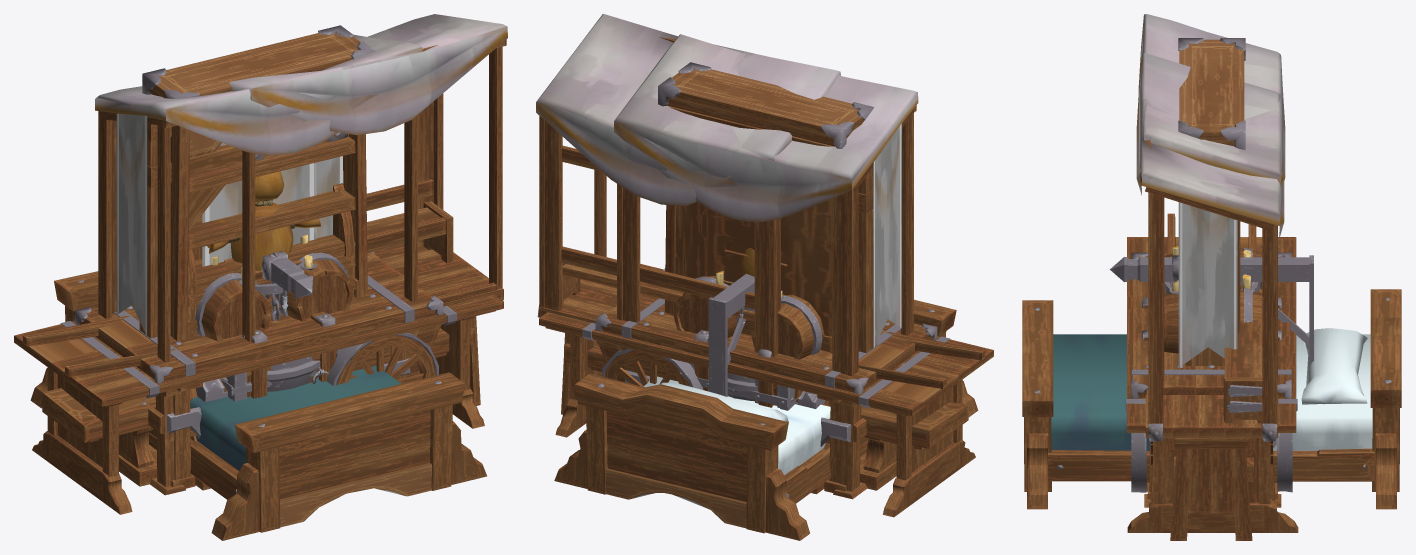
File: fantasy.glb
3 views of the same model, side by side, from view 1: azimuth 30°, elevation 25°; view 2: azimuth 150°, elevation 25°; view 3: azimuth 270°, elevation 25° (orthographic). The views are drawn at different scales.
Visible parts, largest first — view 1: Stall_Cart_Empty, Stall_Empty, Bed_Twin1, Bookcase_2, Table_Large, Bed_Twin2, Workbench, Barrel_Holder, Bench, Banner_2, Shelf_Arch, Banner_1_Cloth (+6 smaller); view 2: Stall_Empty, Stall_Cart_Empty, Bookcase_2, Bed_Twin1, Bed_Twin2, Table_Large, Workbench, Bench, Barrel_Holder, Lantern_Wall, Banner_2, Banner_1 (+3 smaller); view 3: Stall_Cart_Empty, Bed_Twin1, Stall_Empty, Bed_Twin2, Table_Large, Bookcase_2, Workbench, Lantern_Wall, Barrel_Holder, CandleStick_Stand.
Boxes of the visible parts, x1,y1,x2,y2 form: Stall_Cart_Empty: (22, 14, 507, 405); Stall_Empty: (95, 34, 422, 495); Bed_Twin1: (30, 280, 486, 540); Bookcase_2: (142, 25, 375, 449); Table_Large: (14, 244, 503, 514); Bed_Twin2: (35, 271, 482, 540); Workbench: (75, 252, 443, 488); Barrel_Holder: (195, 252, 353, 341); Bench: (42, 327, 474, 486); Banner_2: (147, 132, 348, 238); Shelf_Arch: (187, 183, 355, 336); Banner_1_Cloth: (202, 143, 316, 266); Stall_Empty: (614, 34, 918, 499); Stall_Cart_Empty: (536, 14, 985, 414); Bookcase_2: (658, 62, 874, 456); Bed_Twin1: (558, 299, 978, 540); Bed_Twin2: (554, 310, 976, 537); Table_Large: (539, 264, 993, 517); Workbench: (595, 268, 937, 492); Bench: (564, 343, 968, 490); Barrel_Holder: (673, 276, 830, 405); Lantern_Wall: (708, 273, 754, 398); Banner_2: (858, 190, 873, 352); Banner_1: (858, 167, 876, 352); Stall_Cart_Empty: (1131, 53, 1292, 540); Bed_Twin1: (1022, 298, 1401, 509); Stall_Empty: (1138, 14, 1285, 507); Bed_Twin2: (1022, 289, 1401, 503); Table_Large: (1125, 237, 1298, 532); Bookcase_2: (1178, 38, 1245, 365); Workbench: (1131, 252, 1291, 498); Lantern_Wall: (1110, 255, 1313, 366); Barrel_Holder: (1164, 247, 1262, 353); CandleStick_Stand: (1164, 246, 1262, 294).
Bounding box in the file's own units: 3.02 × 2.63 × 2.41.
Materials: 5 (5 with a texture image).
